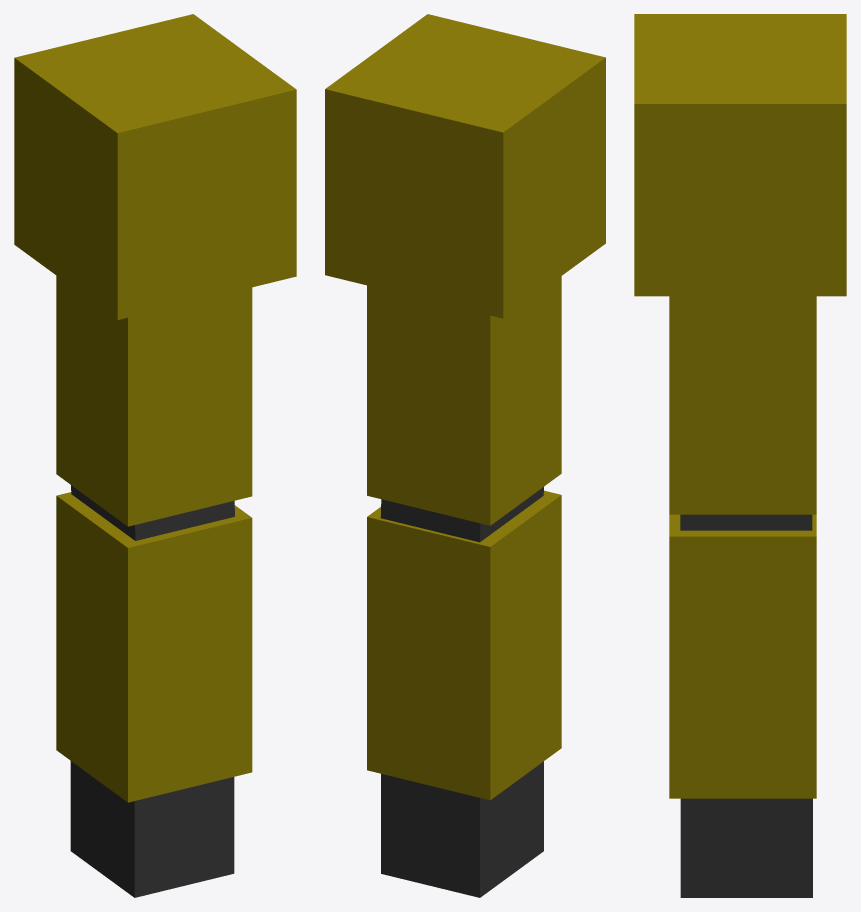
File: LeftArm.obj
3 views of the same model, side by side, from view 1: azimuth 30°, elevation 25°; view 2: azimuth 150°, elevation 25°; view 3: azimuth 270°, elevation 25° (orthographic). The views are drawn at different scales.
Visible parts, largest first — view 1: LeftArm; view 2: LeftArm; view 3: LeftArm.
Boxes of the visible parts, box(x1,y1,x2,y2) form: LeftArm: box(14, 14, 296, 897); LeftArm: box(325, 14, 605, 897); LeftArm: box(634, 14, 846, 897).
Bounding box in the file's own units: 0.3608 × 1.52 × 0.36.
Materials: 1 (1 with a texture image).
